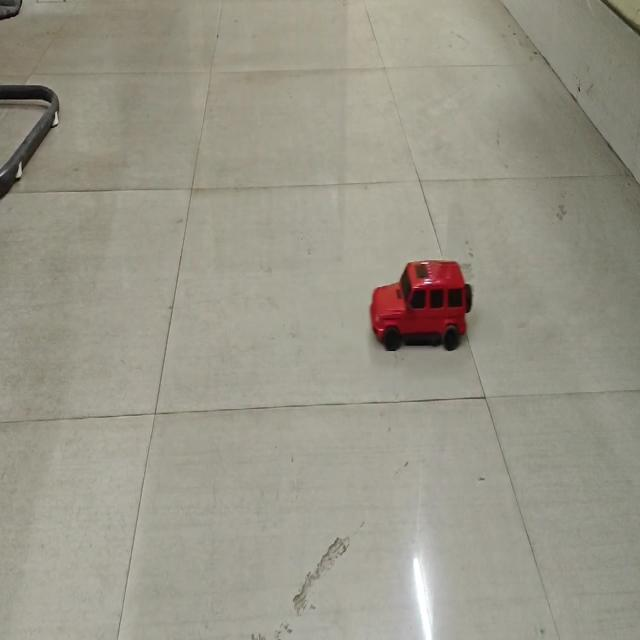light_vehicle: (368, 253, 472, 354)
